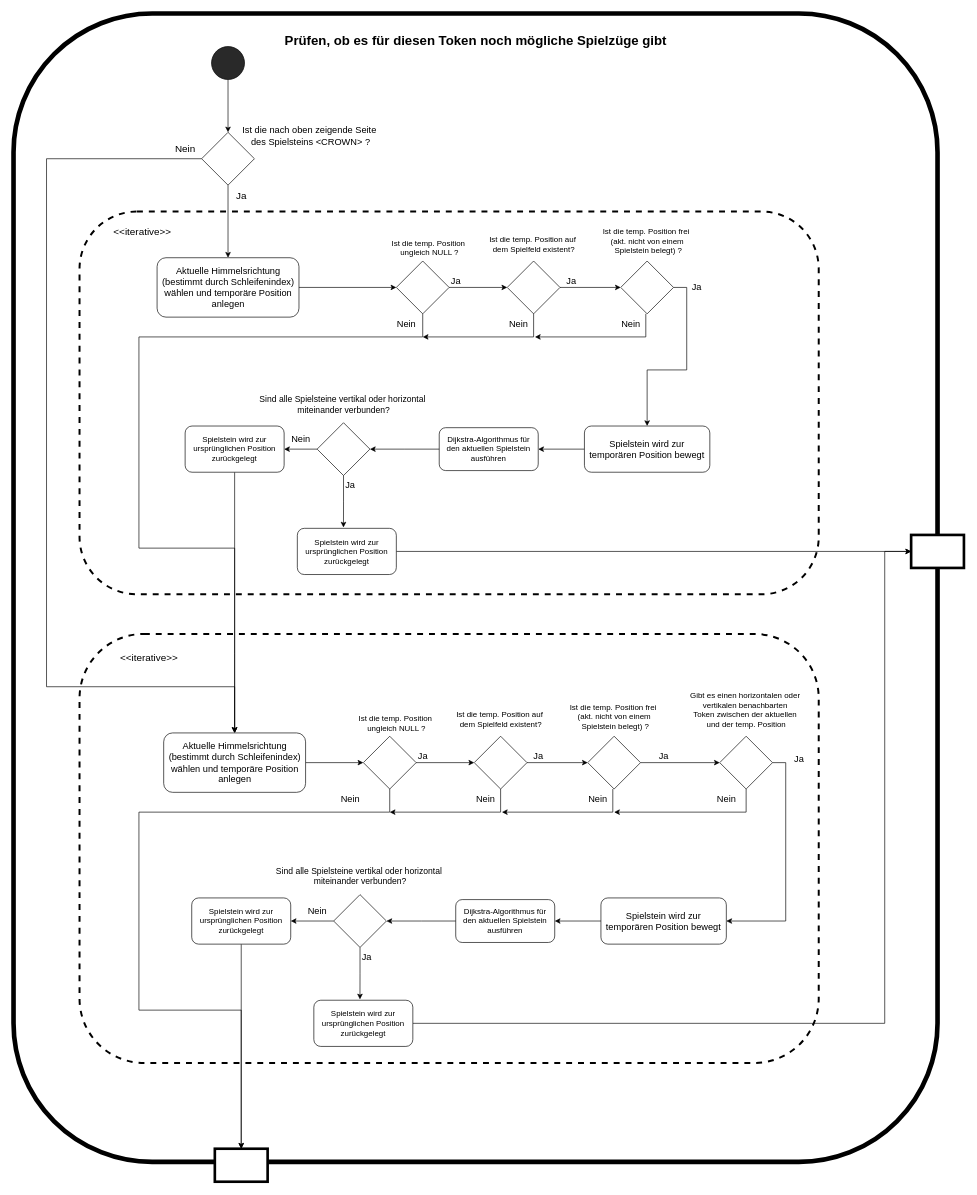
Image size: 977x1195. Some labels were removed from this diagram. The centre of each missing label's shape, as x and y in pixels:
"false" belongs at [241,1165].
"true" belongs at [937,551].
